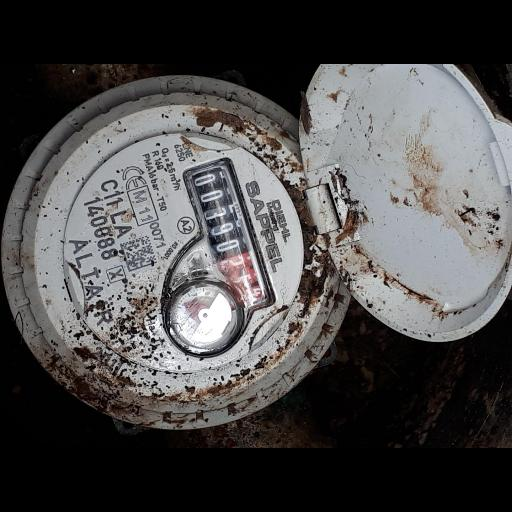0: (210, 231, 248, 259), (196, 183, 233, 209), (191, 167, 227, 192)
2: (215, 249, 253, 277)
3: (200, 199, 237, 225)
4: (234, 281, 266, 309)
5: (223, 266, 260, 293)
9: (206, 215, 242, 241)
border_water_meter_number: (186, 159, 273, 316)
